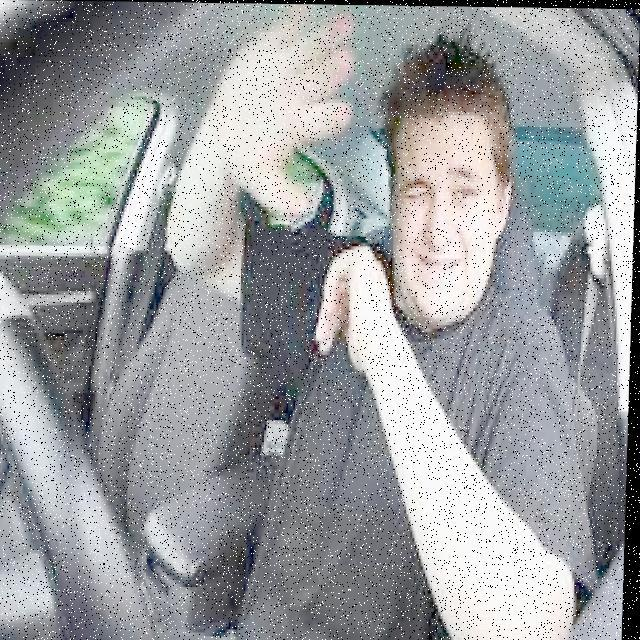noSeatbelt: (257, 234, 554, 636)
